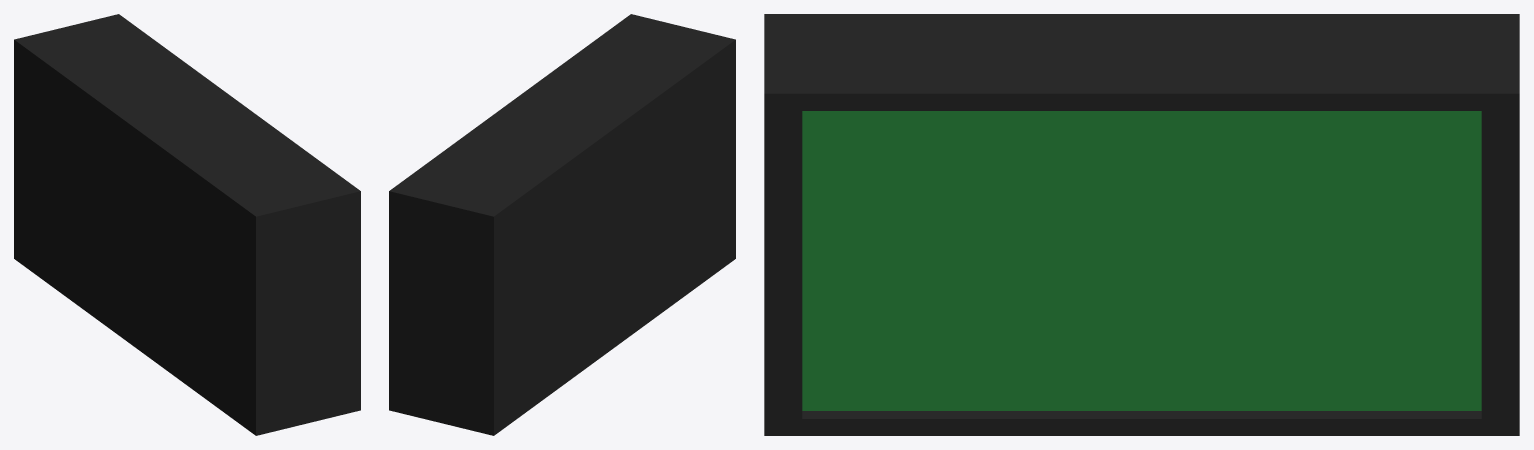
The model's file is keycode.fbx.
The picture shows the model from 3 angles, left to right: view 1: azimuth 30°, elevation 25°; view 2: azimuth 150°, elevation 25°; view 3: azimuth 270°, elevation 25°; orthographic projection. The views are drawn at different scales.
Visible parts, largest first — view 1: Cube; view 2: Cube; view 3: Cube.
Part boxes in pixels (x1=…): Cube: x1=14, y1=14, x2=360, y2=435; Cube: x1=389, y1=14, x2=735, y2=435; Cube: x1=764, y1=14, x2=1519, y2=435.
Bounding box in the file's own units: 100 × 200 × 400.
